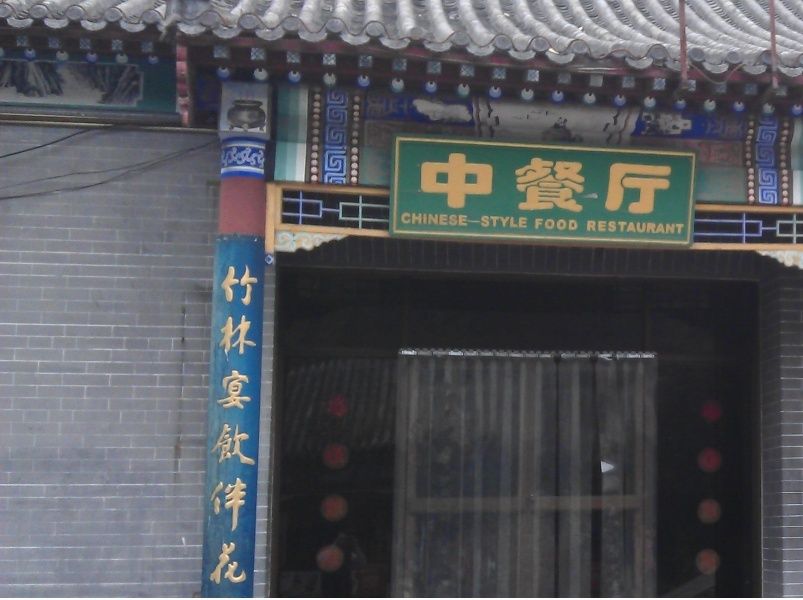text: (225, 266, 240, 588), (241, 266, 256, 588), (257, 266, 263, 588), (220, 266, 224, 588), (433, 150, 448, 221), (449, 150, 464, 221), (465, 150, 480, 221), (481, 150, 496, 221), (497, 150, 512, 221), (513, 150, 528, 221), (529, 150, 544, 221), (545, 150, 560, 221), (561, 150, 576, 221), (577, 150, 592, 221), (593, 150, 608, 221), (609, 150, 624, 221), (625, 150, 640, 221), (641, 150, 656, 221), (657, 150, 672, 221), (422, 150, 432, 221), (417, 212, 432, 231), (433, 212, 448, 231), (449, 212, 464, 231), (465, 212, 480, 231), (481, 212, 496, 231), (497, 212, 512, 231), (513, 212, 528, 231), (402, 212, 416, 231), (593, 221, 608, 236), (609, 221, 624, 236), (625, 221, 640, 236), (641, 221, 656, 236), (657, 221, 672, 236), (545, 218, 560, 232), (561, 218, 576, 232), (673, 221, 686, 236), (536, 218, 544, 232), (673, 150, 674, 221), (588, 221, 592, 236), (577, 218, 579, 232)
